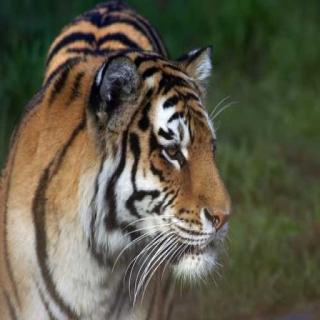Tiger: (0, 0, 236, 320)
